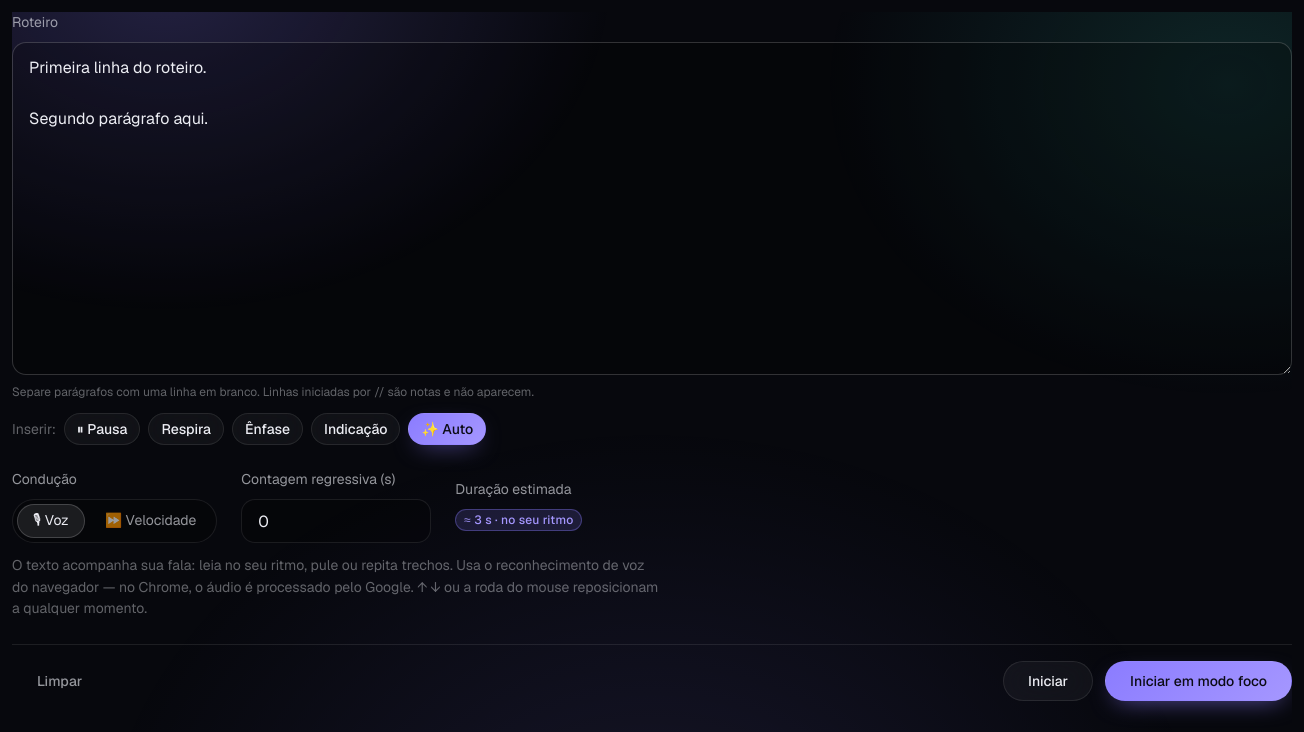
<Teleprompter /> — seguir a voz › microfone bloqueado oferece trocar para velocidade
Click the button "Iniciar": (1048,681) x1=1003 y1=661 x2=1093 y2=701
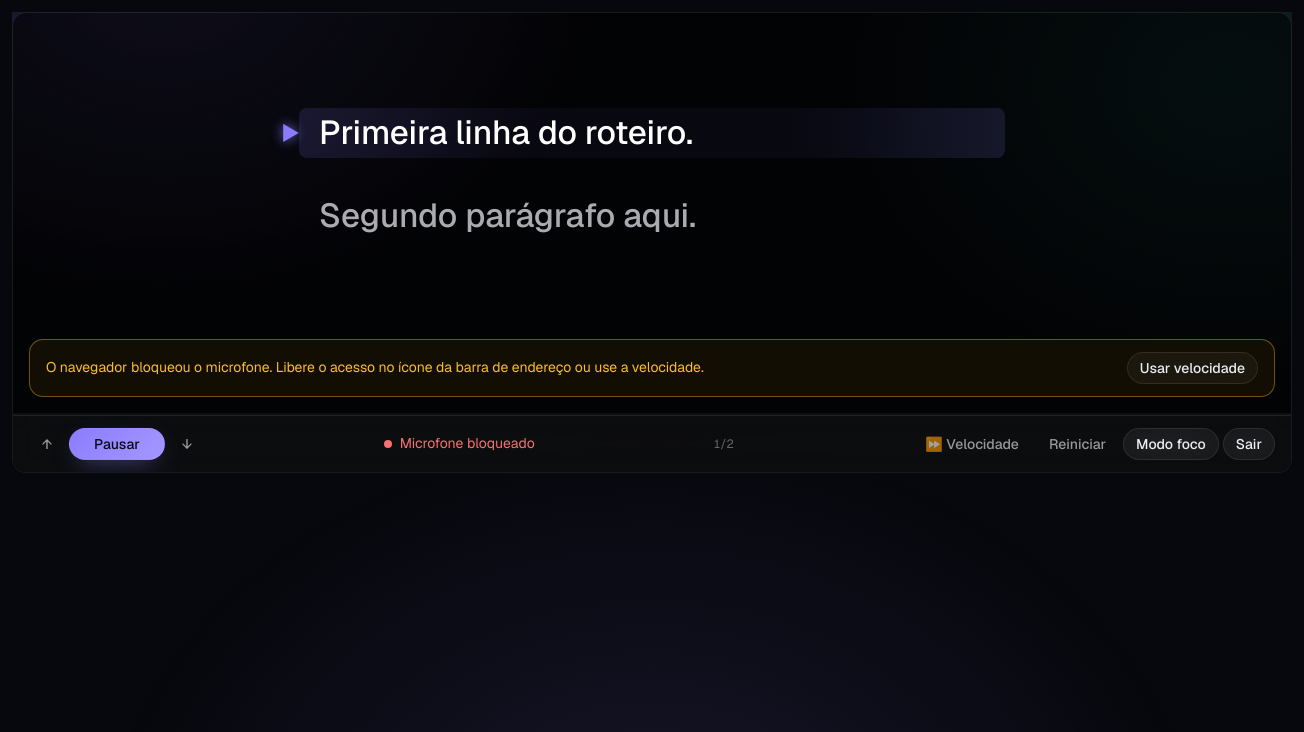
Expected: the message shows "bloqueou o microfone", x1=46 y1=358 x2=704 y2=376
Click the button "Usar velocidade": (1192,368) x1=1127 y1=352 x2=1258 y2=384
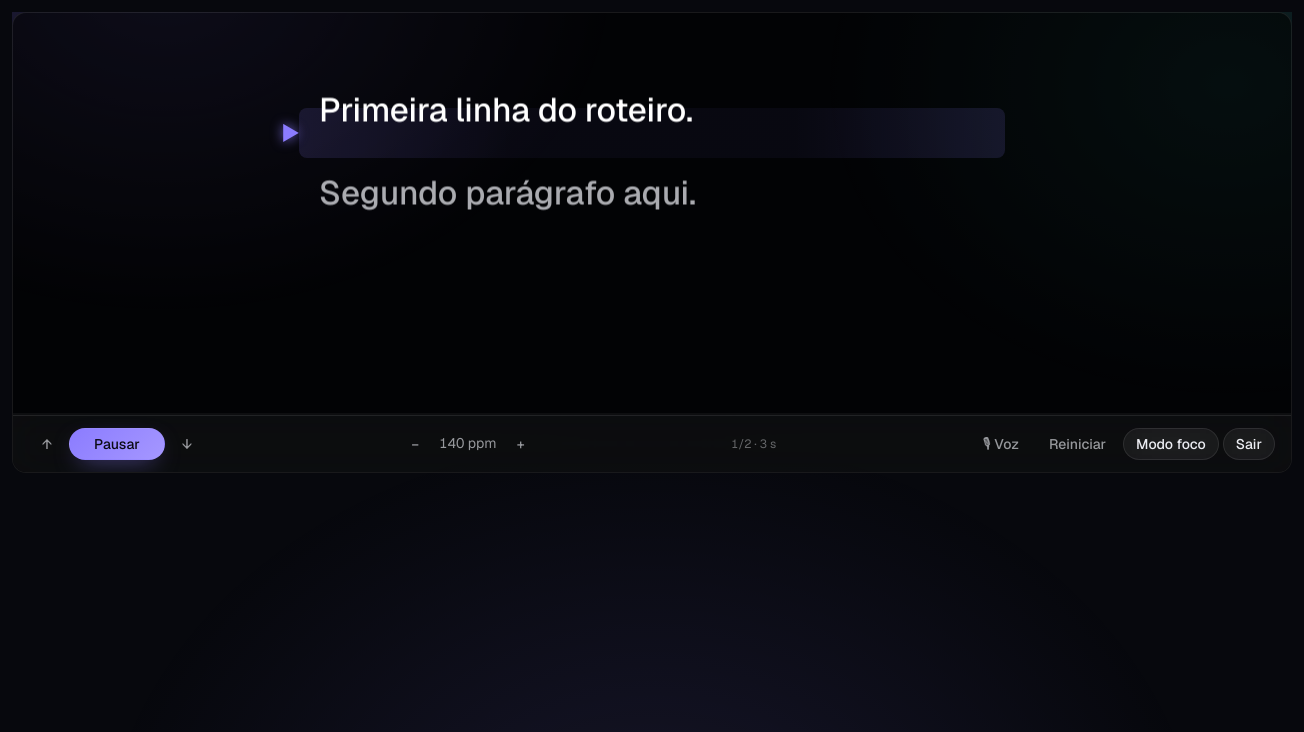
Expected: the text "140 ppm" is shown, x1=436 y1=433 x2=500 y2=455
